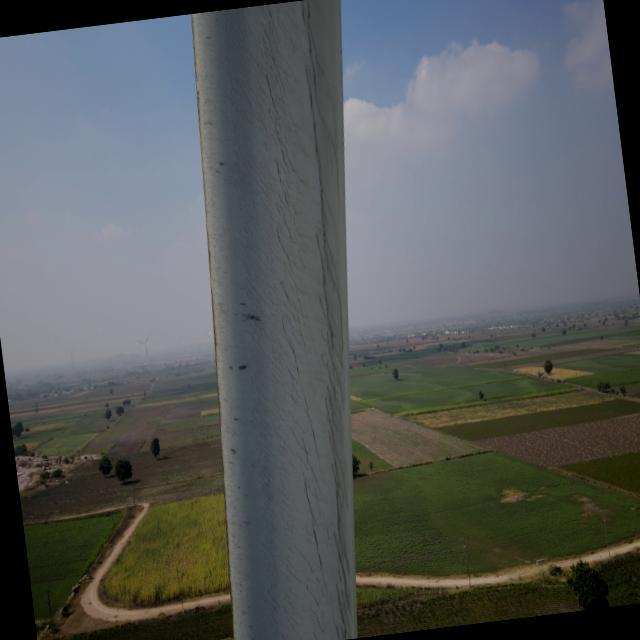Dirt: (193, 2, 360, 640)
